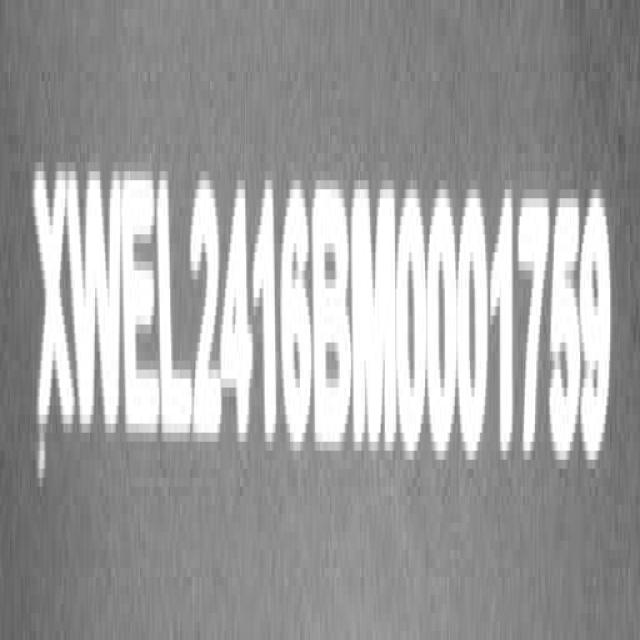0: (398, 176, 432, 463), (458, 180, 489, 468), (429, 181, 459, 464)
1: (488, 176, 516, 469), (256, 173, 280, 453)
2: (192, 168, 225, 453)
4: (220, 172, 254, 452)
5: (549, 186, 579, 468)
6: (281, 174, 316, 453)
7: (520, 181, 549, 465)
9: (582, 197, 613, 474)
B: (312, 176, 352, 456)
E: (125, 167, 161, 450)
L: (159, 167, 192, 449)
M: (352, 174, 401, 459)
W: (68, 157, 125, 445)
X: (33, 155, 72, 444)
